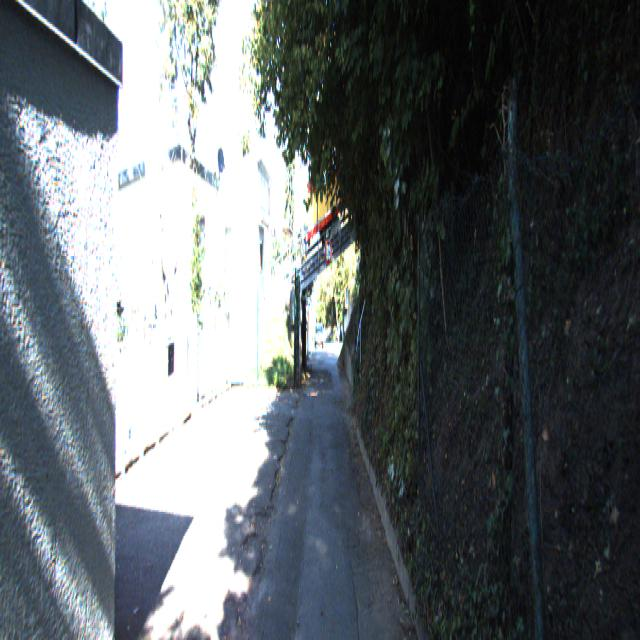Car: (314, 324, 324, 352)
